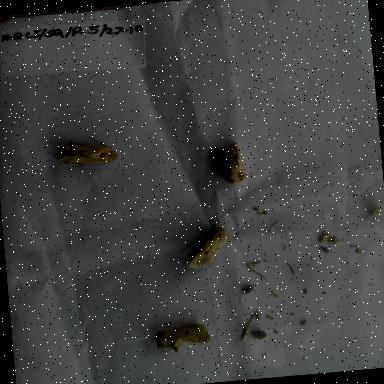abw: (172, 218, 238, 276), (39, 132, 127, 174), (144, 317, 217, 360), (204, 134, 258, 191)
